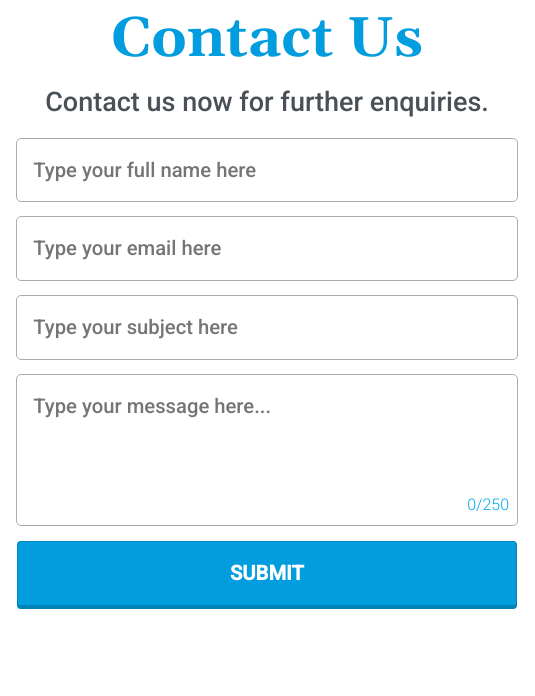
Test: ContactForm › should show an error message when form not submitted successfully
// Name input must be filled
In the field with placeholder "Type your full name here": (267, 170) [17,138,517,201], type "John Doe"
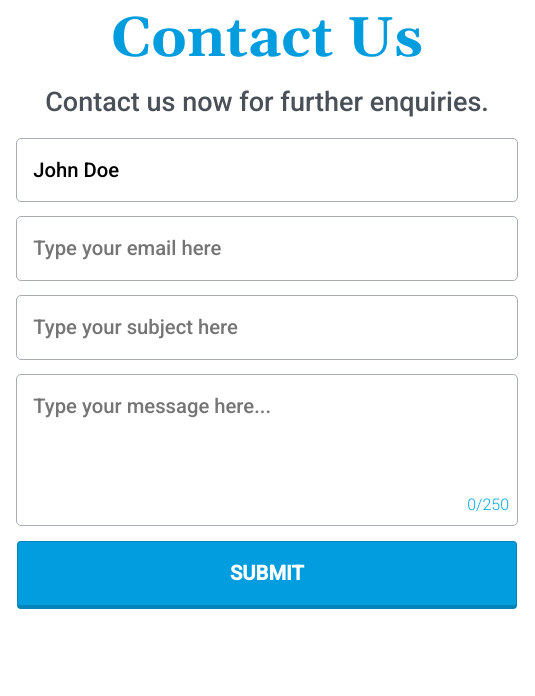
// Email input must be filled
In the field with placeholder "Type your email here": (267, 249) [17,217,517,280], type "ameyaw@test.com"
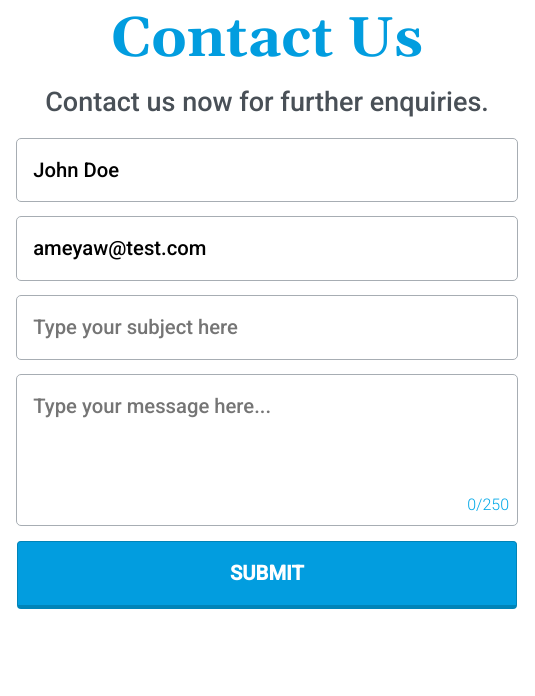
// Subject input must be filled
In the field with placeholder "Type your subject here": (267, 327) [17,296,517,359], type "Some random subject"
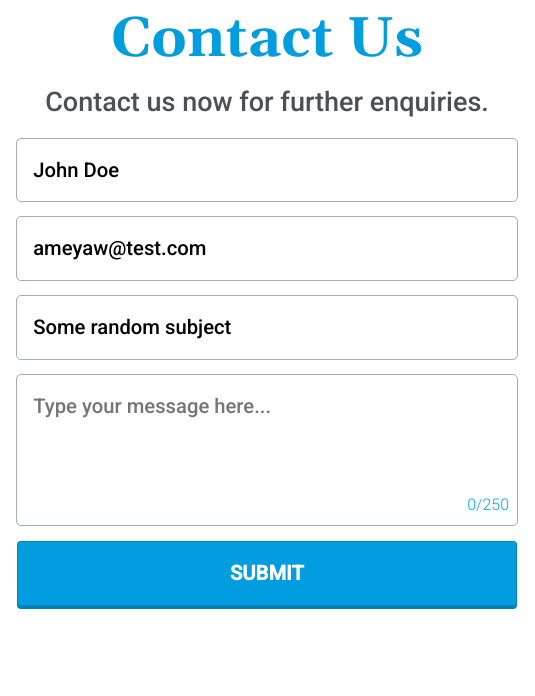
// Message input must be filled
In the text box with placeholder "Type your message here...": (267, 450) [17,375,517,525], type "Some very nice message"
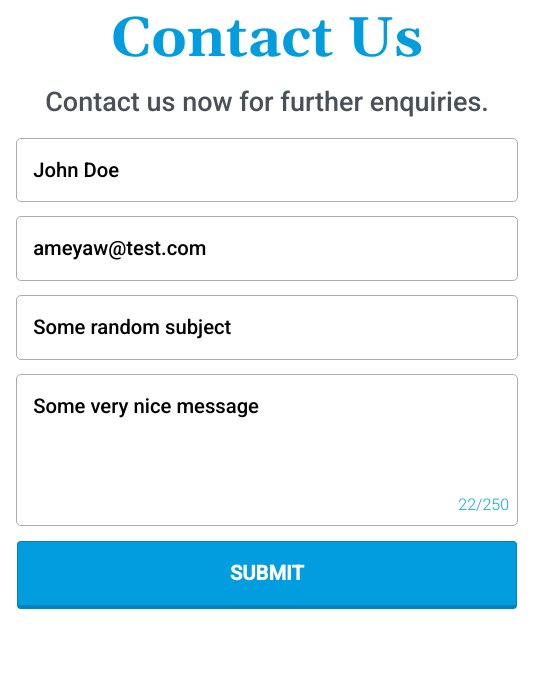
// Simulate button click
Click the button "Submit": (267, 575) [17,541,517,609]
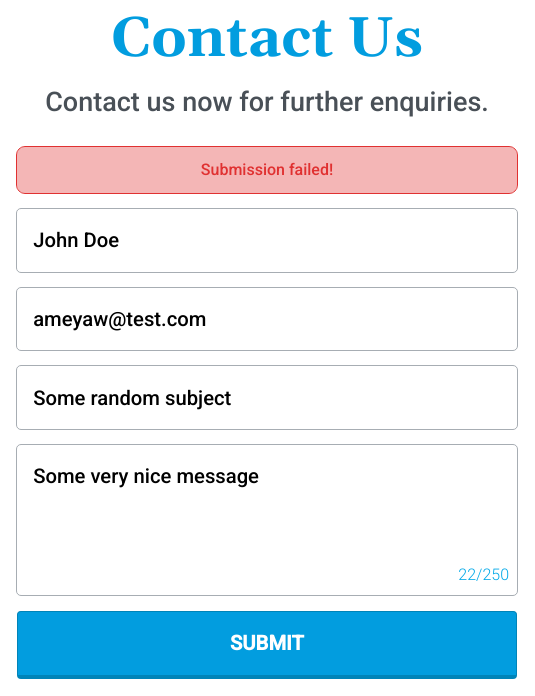
Expected: the text "Submission failed!" is shown, [17,146,517,193]
